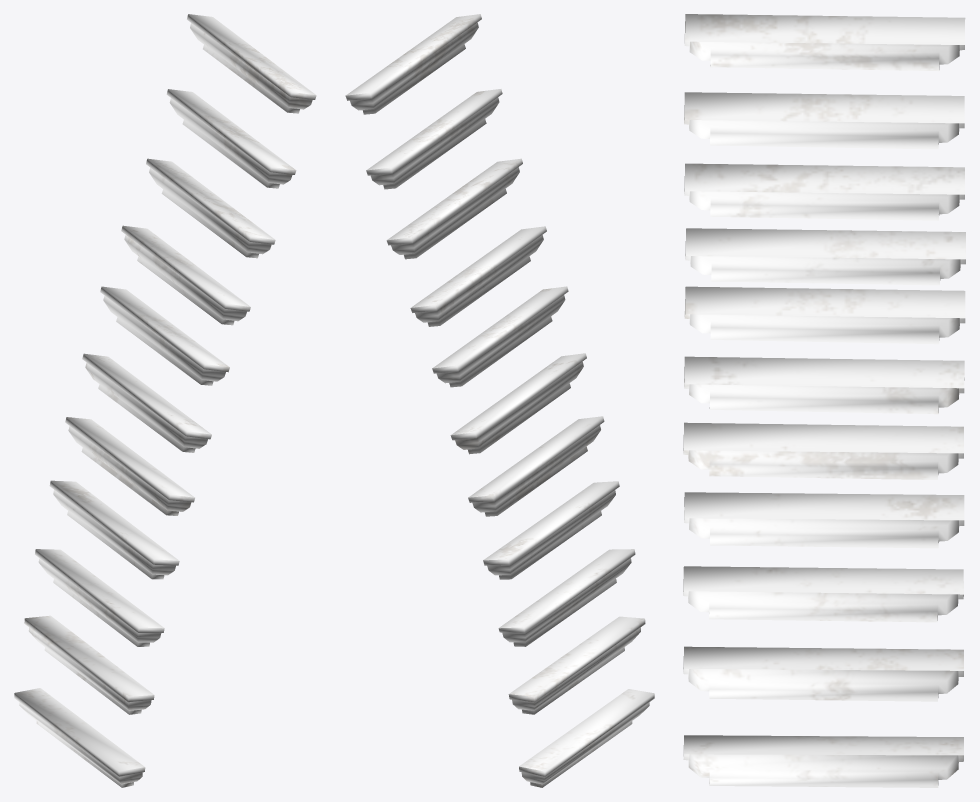
Rendered from LadderRight.fbx.
The picture shows the model from 3 angles, left to right: view 1: azimuth 30°, elevation 25°; view 2: azimuth 150°, elevation 25°; view 3: azimuth 270°, elevation 25°; orthographic projection. The views are drawn at different scales.
Parts seen in each view (by area): view 1: SternDetail.001; view 2: SternDetail.001; view 3: SternDetail.001.
Part boxes in pixels (box(x1,y1,x2,y2)): SternDetail.001: box(14, 14, 316, 787); SternDetail.001: box(345, 14, 654, 787); SternDetail.001: box(683, 14, 965, 787).
Size of the model in its own units: 96.93 by 306 by 90.37.
